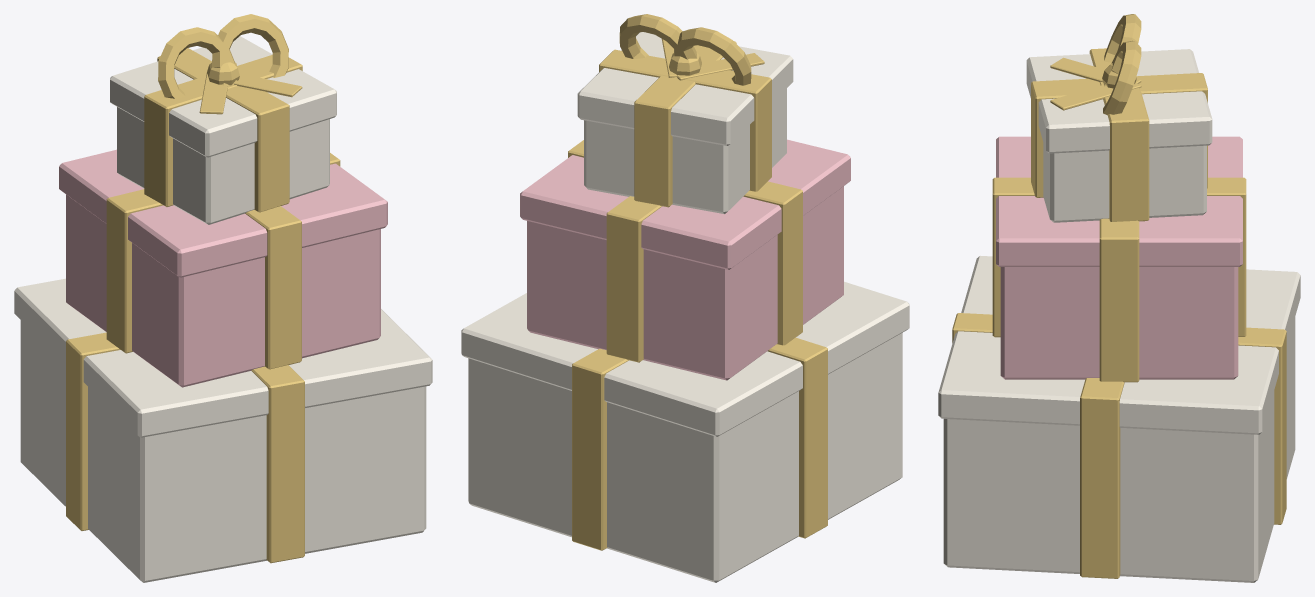
The model's file is wedding-and-chapel-kit-gift-box-stack-562b6e24.glb.
3 views of the same model, side by side, from view 1: azimuth 30°, elevation 25°; view 2: azimuth 150°, elevation 25°; view 3: azimuth 270°, elevation 25° (orthographic).
Visible parts, largest first — view 1: gift-box-stack; view 2: gift-box-stack; view 3: gift-box-stack.
Boxes of the visible parts, x1=… form: gift-box-stack: x1=14, y1=14, x2=432, y2=582; gift-box-stack: x1=461, y1=14, x2=909, y2=582; gift-box-stack: x1=938, y1=14, x2=1300, y2=582.
Bounding box in the file's own units: 0.4574 × 0.6668 × 0.4574.
